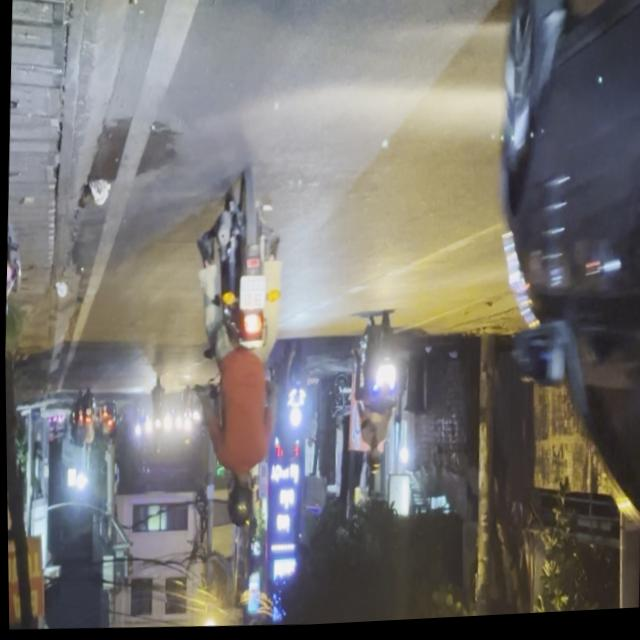helmet: (222, 474, 256, 532)
licenseplate: (184, 173, 292, 536)
nohelmet: (238, 278, 265, 312)
